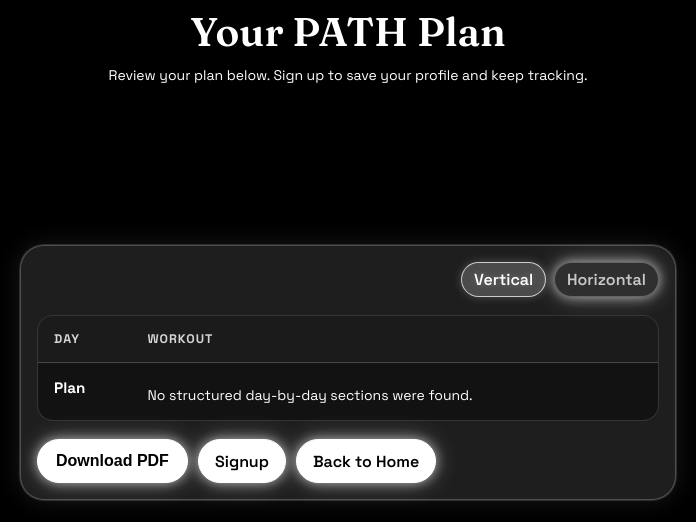
Test case: WorkoutResultPage › switching layouts › Horizontal swaps the table and moves the active marker
The image size is (696, 522).
Click the button "Horizontal": (606, 279) x1=554 y1=262 x2=659 y2=297
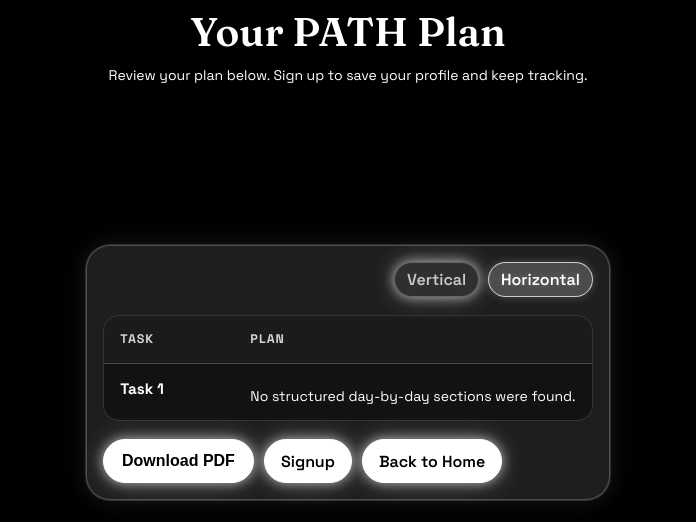
Check: the table named "Generated workout table horizontal layout" is shown, box x1=104 y1=316 x2=592 y2=420
